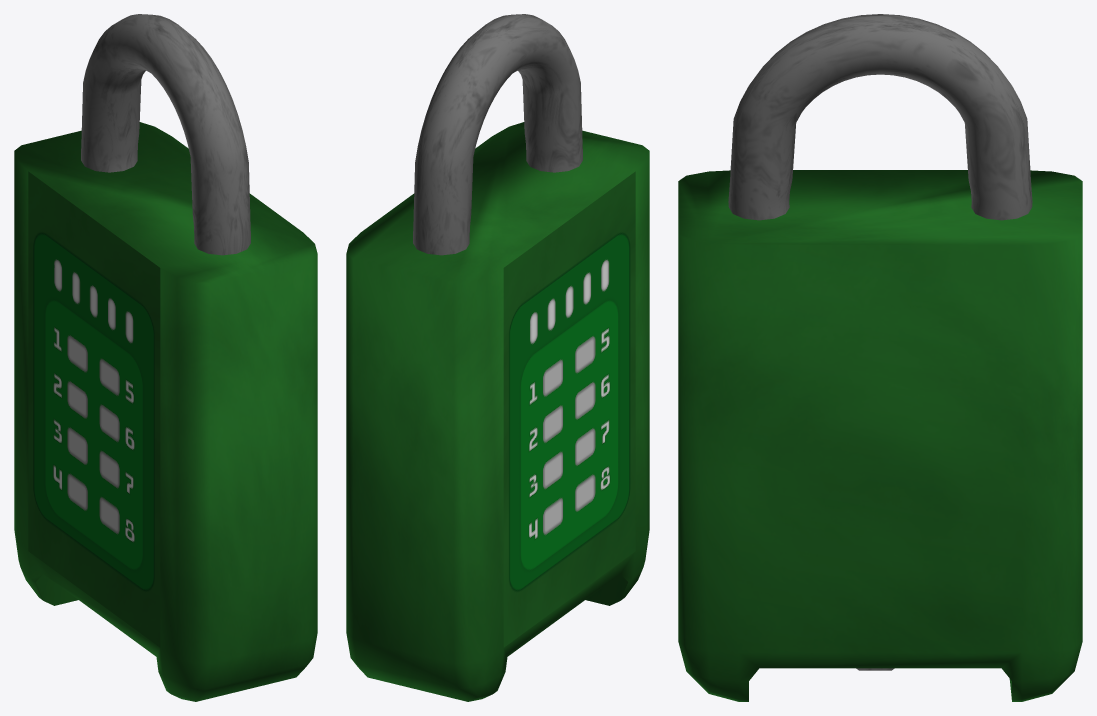
File: PushLock(textured)_aadi.fbx
3 renders of one model, left to right at view 1: azimuth 30°, elevation 25°; view 2: azimuth 150°, elevation 25°; view 3: azimuth 270°, elevation 25°, orthographic. The views are drawn at different scales.
Visible parts, largest first — view 1: Cube.001, Cube.002, Torus; view 2: Cube.001, Cube.002, Torus; view 3: Cube.001, Torus.
Boxes of the visible parts, bbox=[...] form: Cube.001: bbox=[14, 122, 317, 701]; Cube.002: bbox=[28, 171, 160, 647]; Torus: bbox=[81, 14, 250, 255]; Cube.001: bbox=[346, 122, 649, 701]; Cube.002: bbox=[503, 171, 635, 647]; Torus: bbox=[413, 14, 582, 255]; Cube.001: bbox=[678, 170, 1082, 701]; Torus: bbox=[728, 14, 1032, 220].
Bounding box in the file's own units: 79.57 × 326 × 181.
2 materials, 2 textured.
